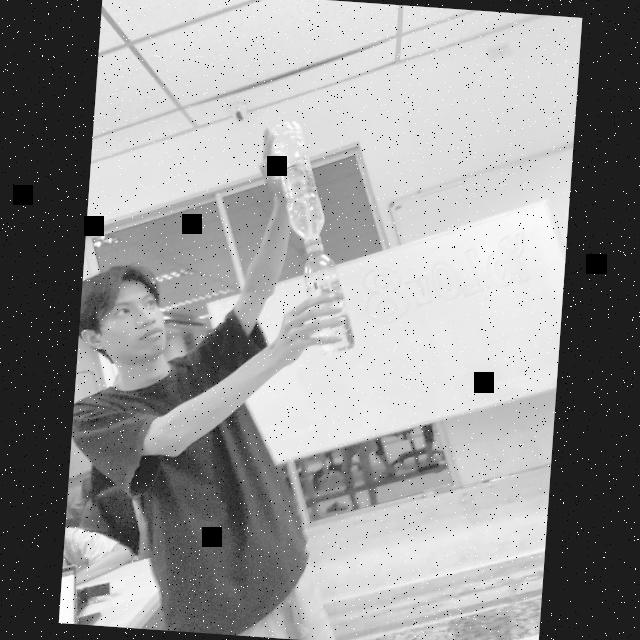plastic_bottle: (264, 118, 332, 245), (296, 241, 361, 356)
plastic_bottle_cap: (303, 242, 327, 258), (300, 235, 322, 247)
